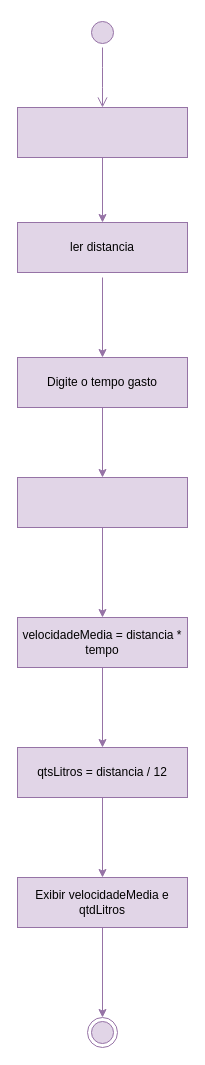
Some shapes in this 205 by 1065 pixel diagram are drawn without their labels. Here are the shapes that lost their labels. From the top down, the centre of each, then its label:
At [102,132]: "Digite a distancia".
At [102,502]: "ler tempo".
